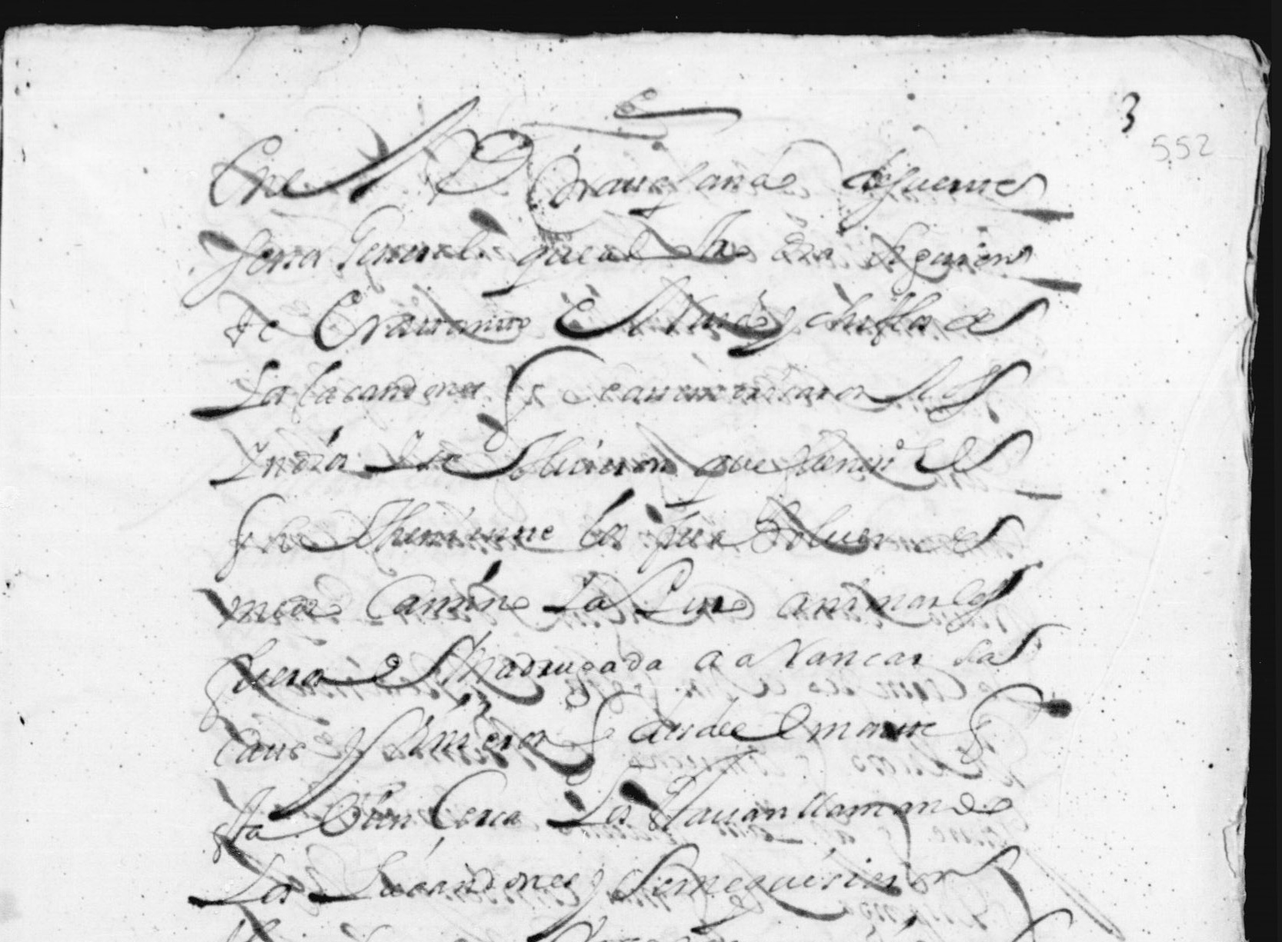lacandon: (308, 850, 579, 904)
